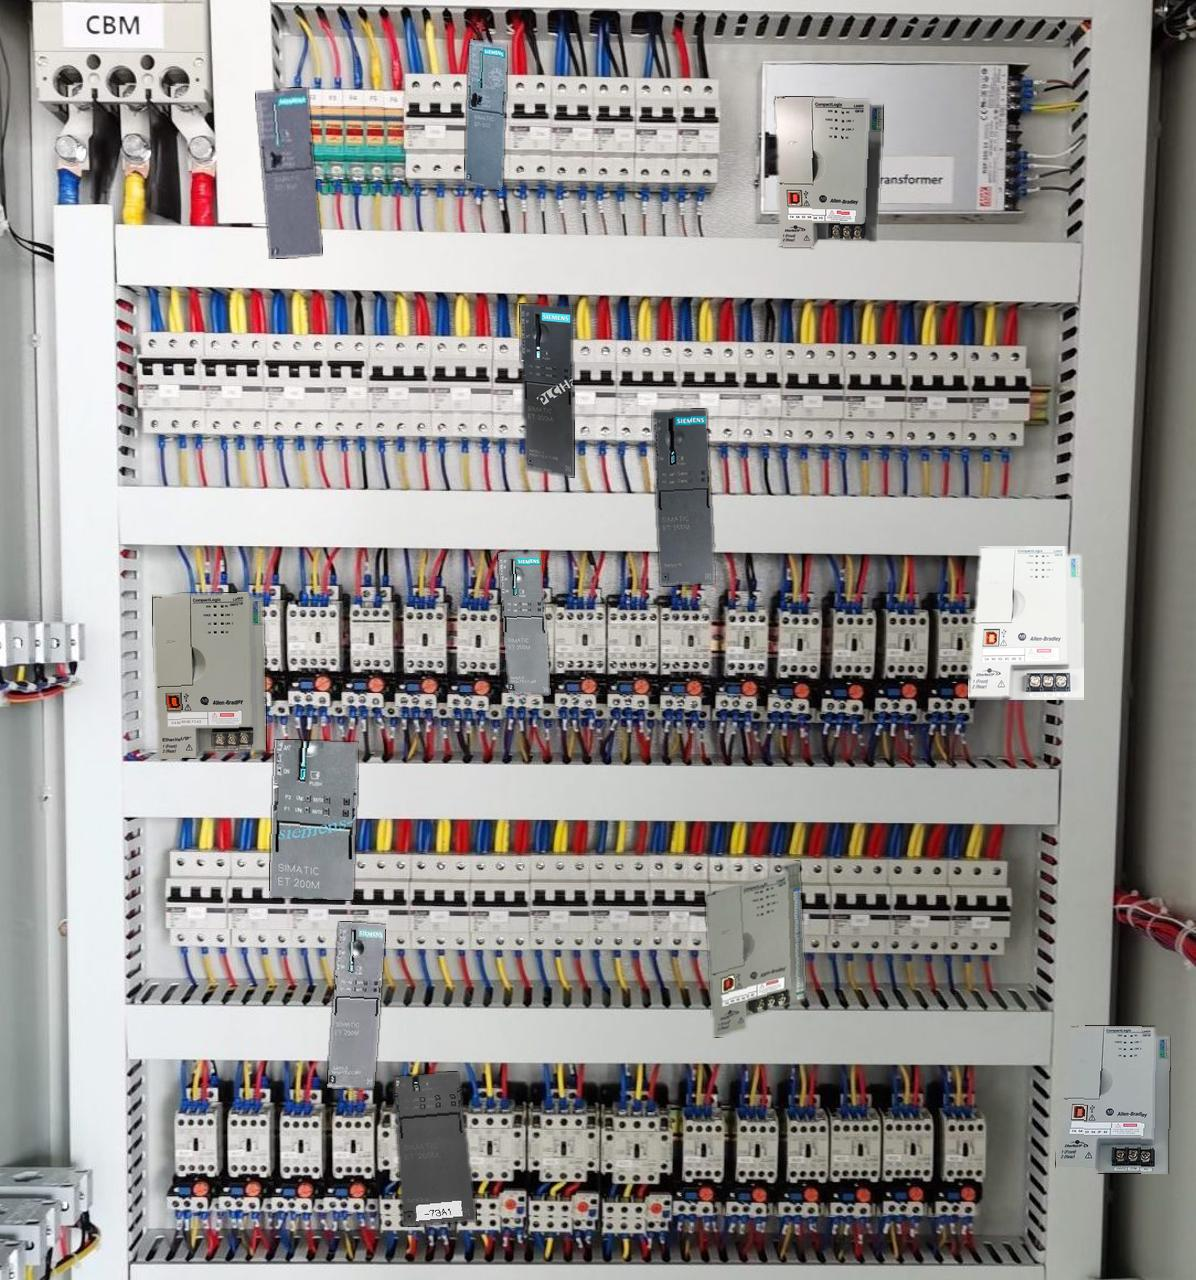AllenBradley: (153, 592, 265, 759), (968, 546, 1082, 699), (705, 861, 804, 1036), (1055, 1025, 1169, 1173), (774, 96, 882, 247)
Siemens: (256, 87, 321, 258), (465, 39, 506, 190)
